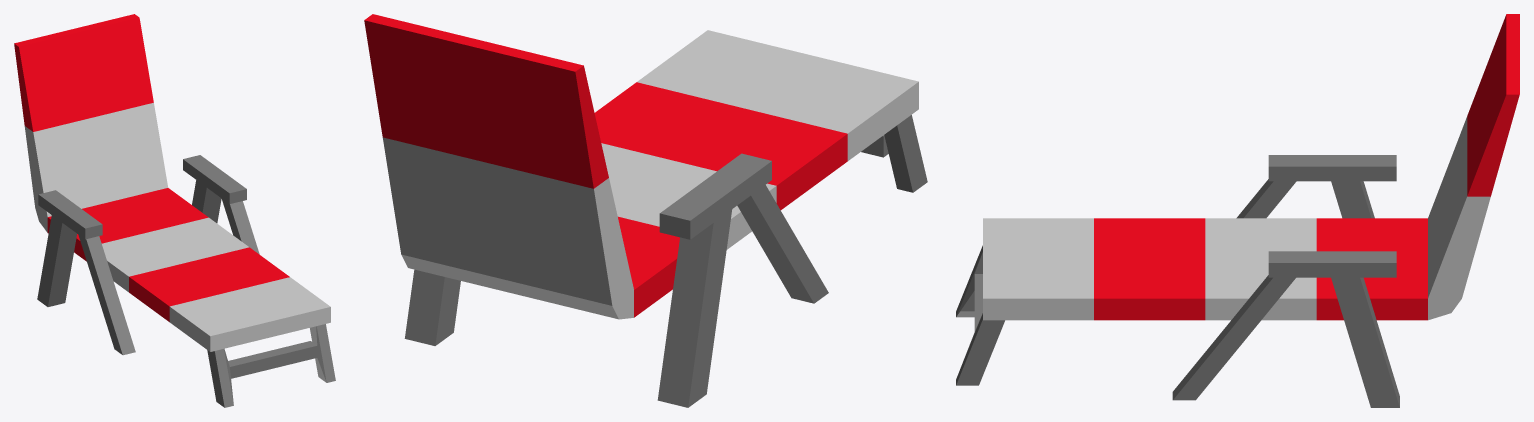
The model's file is Espreguisadeira2.fbx.
The picture shows the model from 3 angles, left to right: view 1: azimuth 30°, elevation 25°; view 2: azimuth 150°, elevation 25°; view 3: azimuth 270°, elevation 25°; orthographic projection. The views are drawn at different scales.
Visible parts, largest first — view 1: Espreguisadeira2; view 2: Espreguisadeira2; view 3: Espreguisadeira2.
Part boxes in pixels (<box>): Espreguisadeira2: <box>14,14,335,407</box>; Espreguisadeira2: <box>364,14,927,407</box>; Espreguisadeira2: <box>956,14,1519,407</box>.
Bounding box in the file's own units: 315 × 407 × 694.
